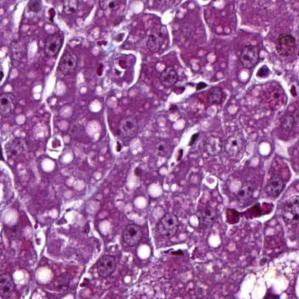ballooning: (233, 245, 299, 299)
